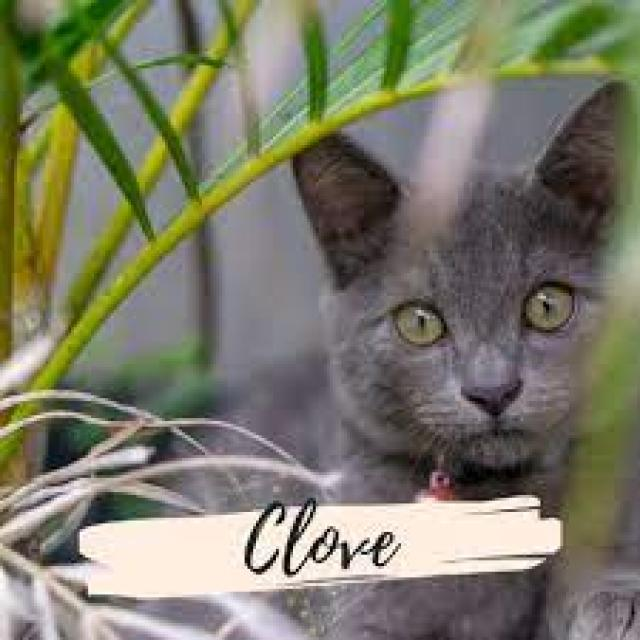Cat: (266, 74, 638, 482)
